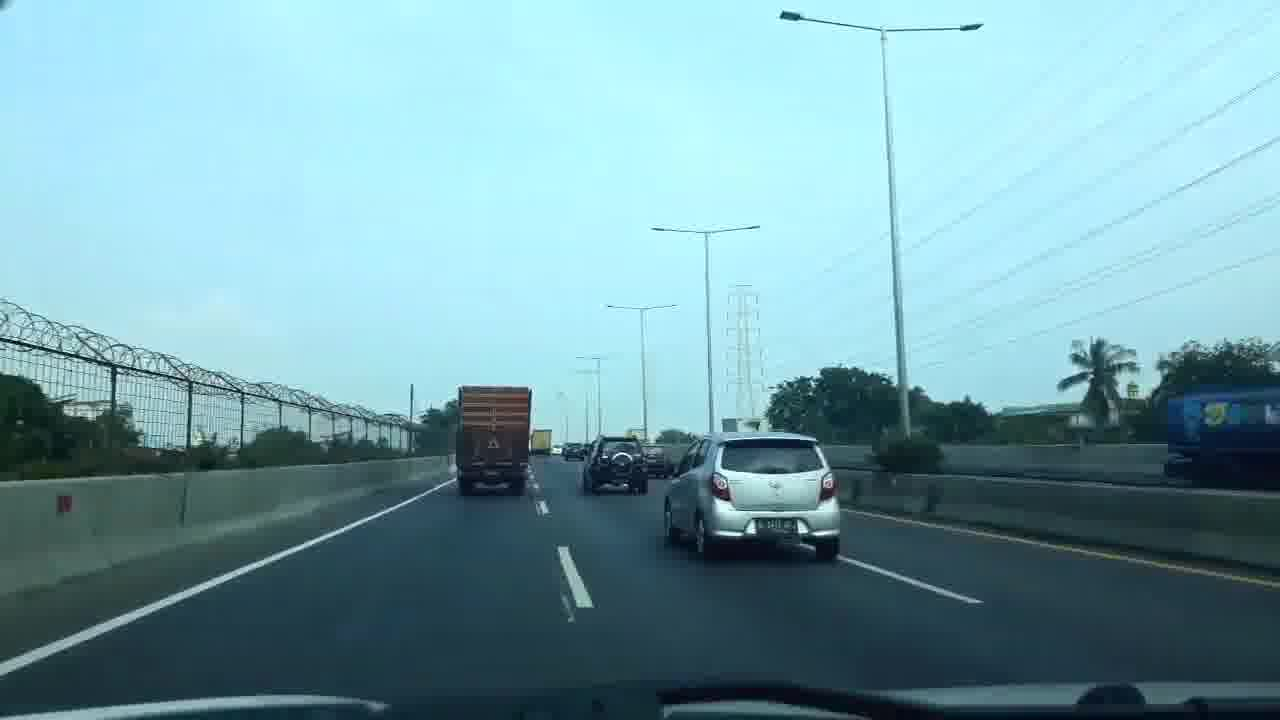plate_positive: (756, 519, 798, 535)
